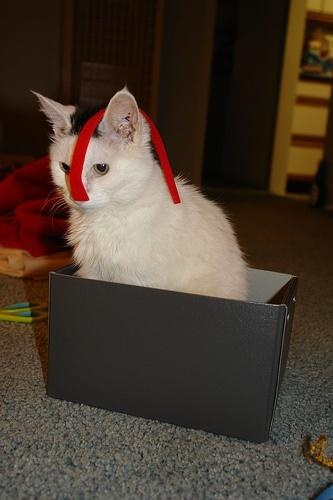cat: (31, 85, 250, 302)
